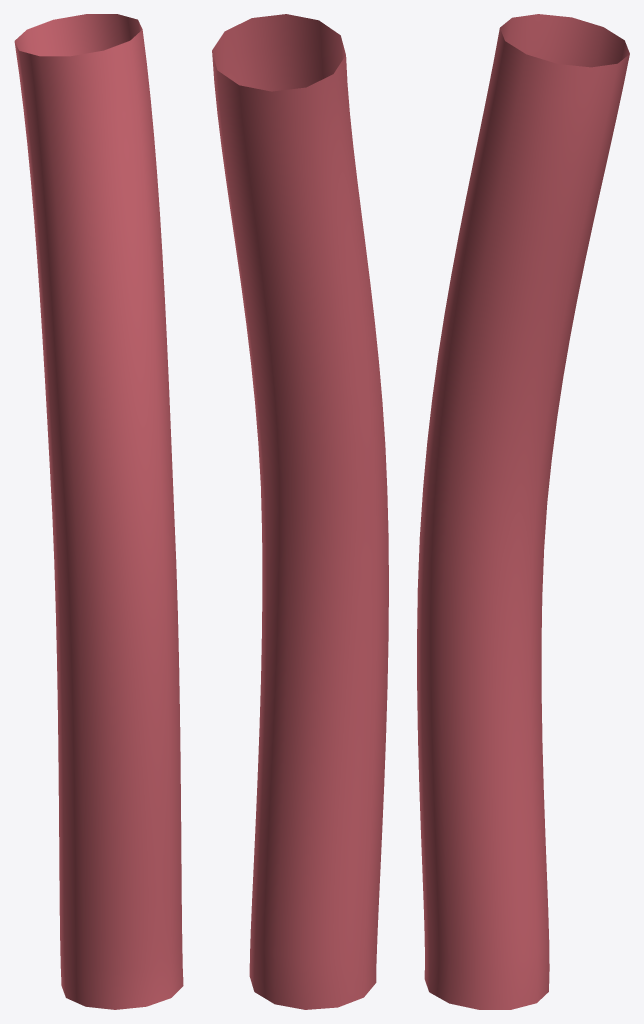
3 views of the same model, side by side, from view 1: azimuth 30°, elevation 25°; view 2: azimuth 150°, elevation 25°; view 3: azimuth 270°, elevation 25° (orthographic). The views are drawn at different scales.
Visible parts, largest first — view 1: ZA_6c6f0050b01ebe5d; view 2: ZA_6c6f0050b01ebe5d; view 3: ZA_6c6f0050b01ebe5d.
Part boxes in pixels (x1,y1,x2,y2): ZA_6c6f0050b01ebe5d: (14, 14, 183, 1009); ZA_6c6f0050b01ebe5d: (212, 14, 388, 1009); ZA_6c6f0050b01ebe5d: (417, 14, 629, 1009).
Size of the model in its own units: 0.0185 by 0.143 by 0.0289.
